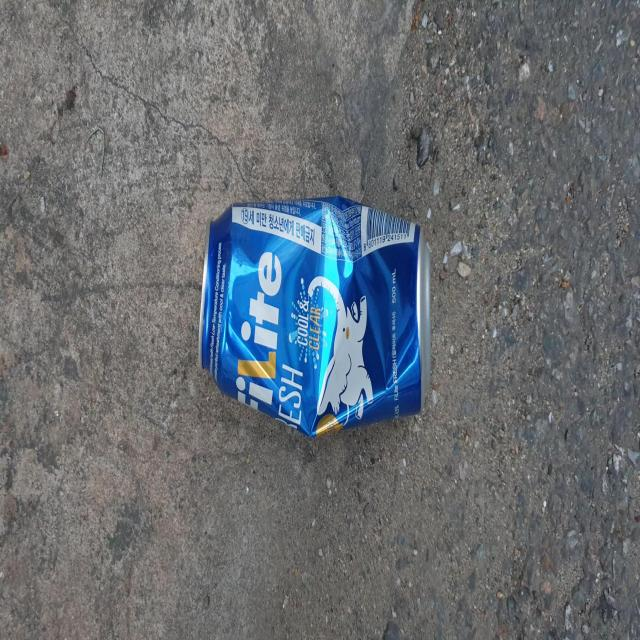can: (198, 196, 431, 436)
